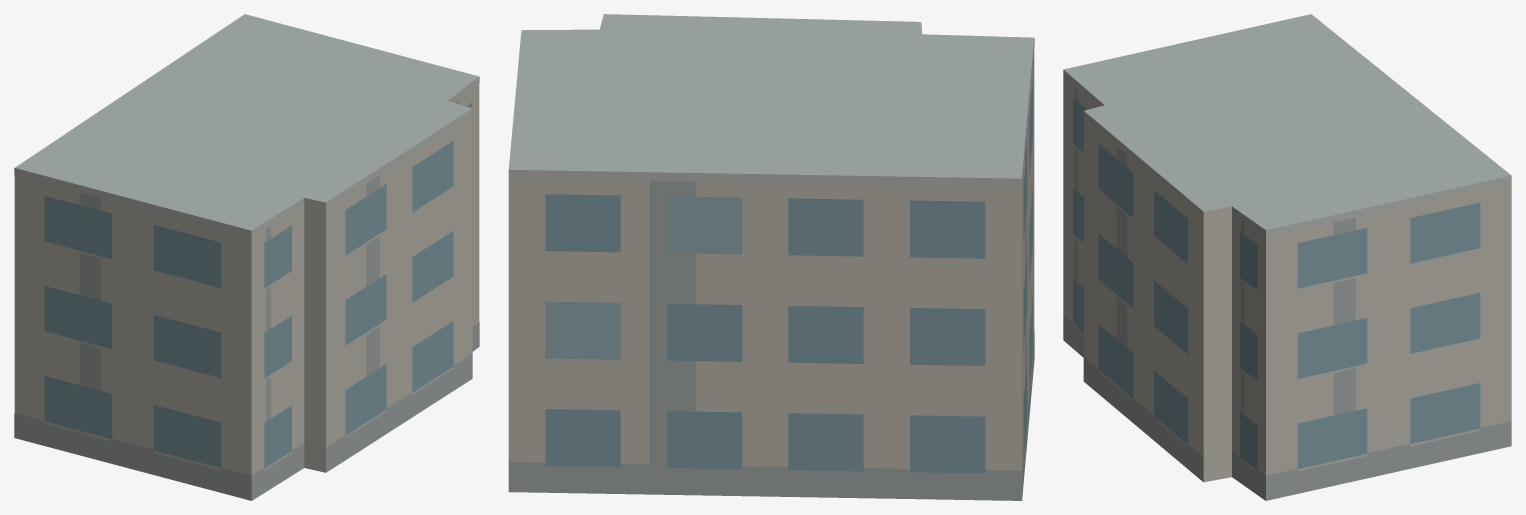
File: survey-upis-32733339.glb
3 renders of one model, left to right at view 1: azimuth 30°, elevation 25°; view 2: azimuth 150°, elevation 25°; view 3: azimuth 270°, elevation 25°, orthographic. The views are drawn at different scales.
Visible parts, largest first — view 1: survey-upis-32733339.tmp; view 2: survey-upis-32733339.tmp; view 3: survey-upis-32733339.tmp.
Boxes of the visible parts, x1,y1,x2,y2 form: survey-upis-32733339.tmp: (14, 14, 479, 500); survey-upis-32733339.tmp: (508, 14, 1034, 500); survey-upis-32733339.tmp: (1063, 14, 1511, 500).
Size of the model in its own units: 15.68 by 9.15 by 13.74.
